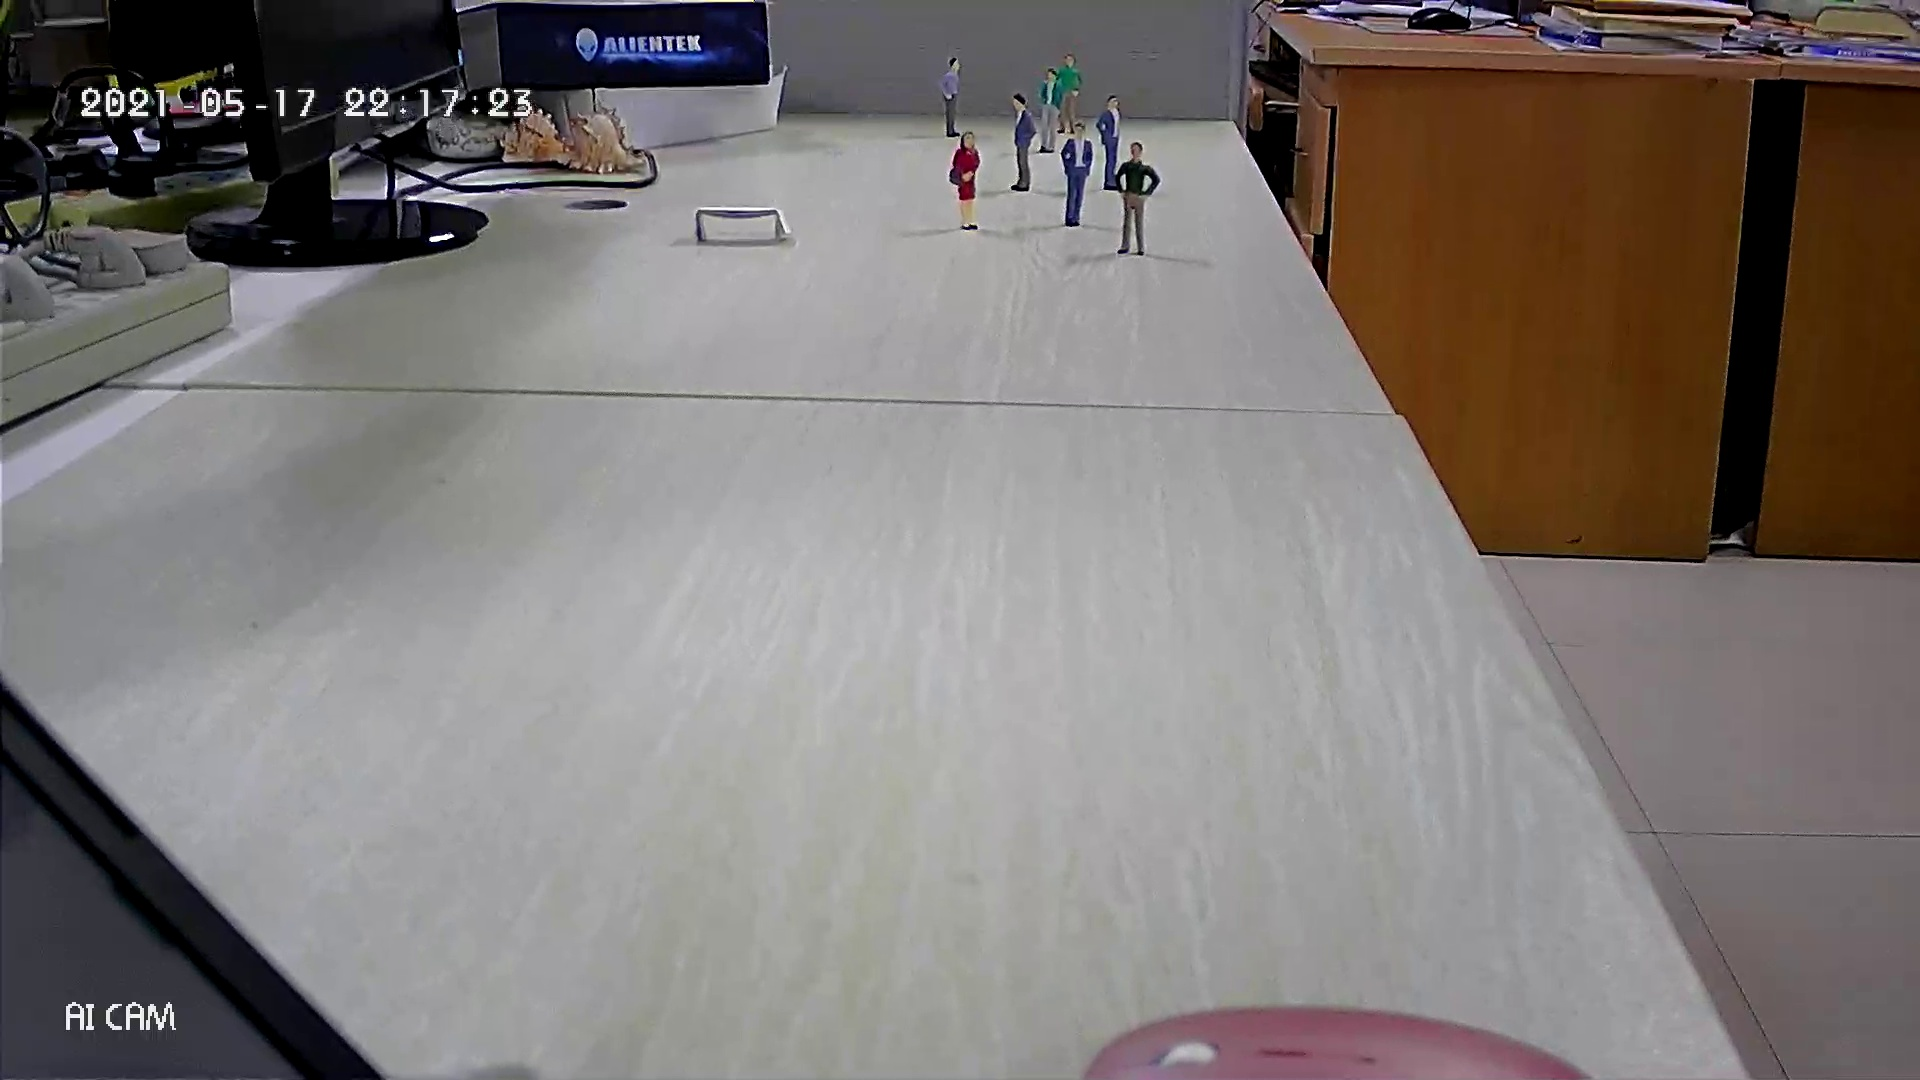person: (1114, 141, 1161, 256), (948, 130, 982, 232), (1061, 123, 1094, 228), (1095, 94, 1123, 193), (1010, 91, 1037, 193), (1037, 67, 1062, 155), (1060, 51, 1085, 136), (940, 54, 962, 138)
